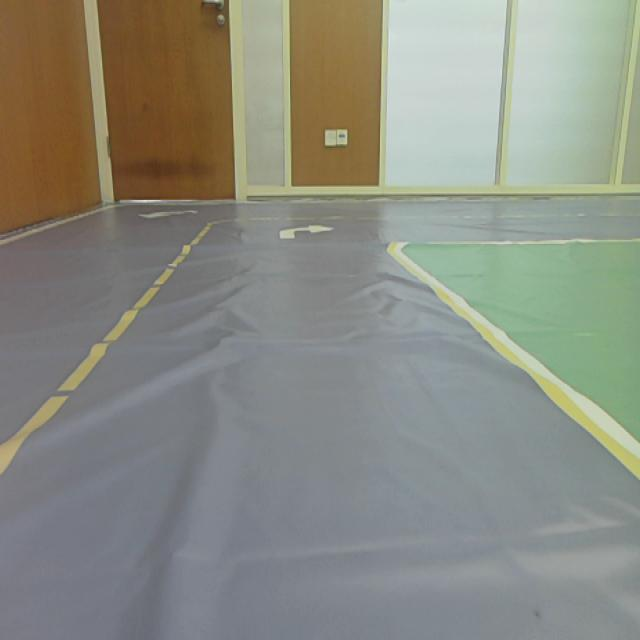left_lane: (0, 222, 213, 480)
right_lane: (386, 251, 640, 482)
